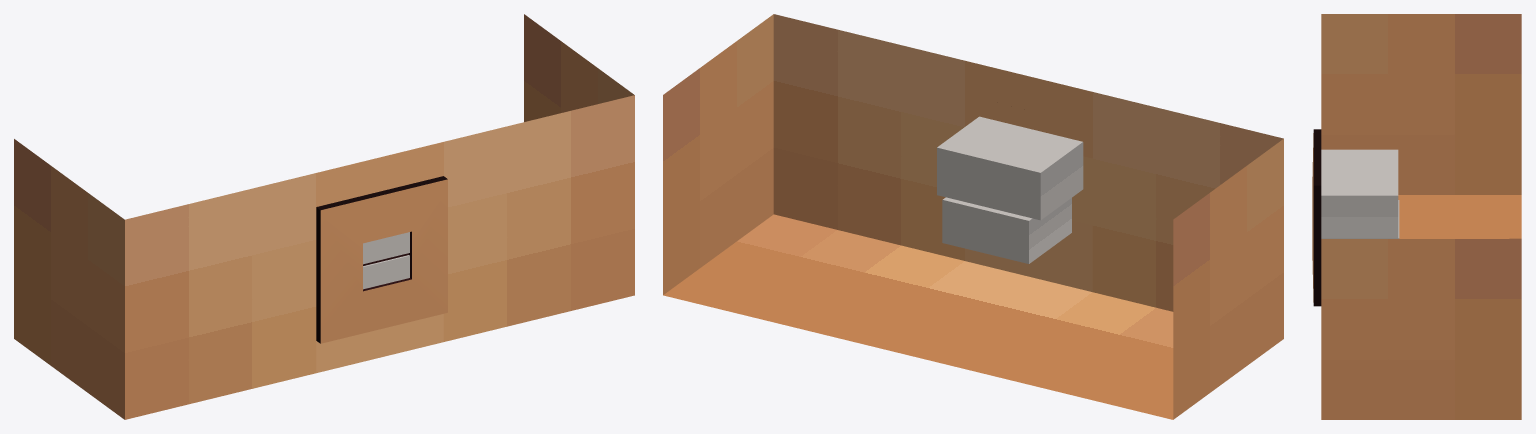
The model's file is skM1_jesse_mouthSH.glb.
3 renders of one model, left to right at view 1: azimuth 30°, elevation 25°; view 2: azimuth 150°, elevation 25°; view 3: azimuth 270°, elevation 25°, orthographic. The views are drawn at different scales.
Visible parts, largest first — view 1: skM1_jesse; view 2: skM1_jesse; view 3: skM1_jesse.
Part boxes in pixels (left/top/right/bottom): skM1_jesse: left=14, top=14, right=634, bottom=419; skM1_jesse: left=663, top=14, right=1283, bottom=419; skM1_jesse: left=1312, top=14, right=1521, bottom=419.
Size of the model in its own units: 0.5012 by 0.1883 by 0.1972.
1 material, 1 textured.
